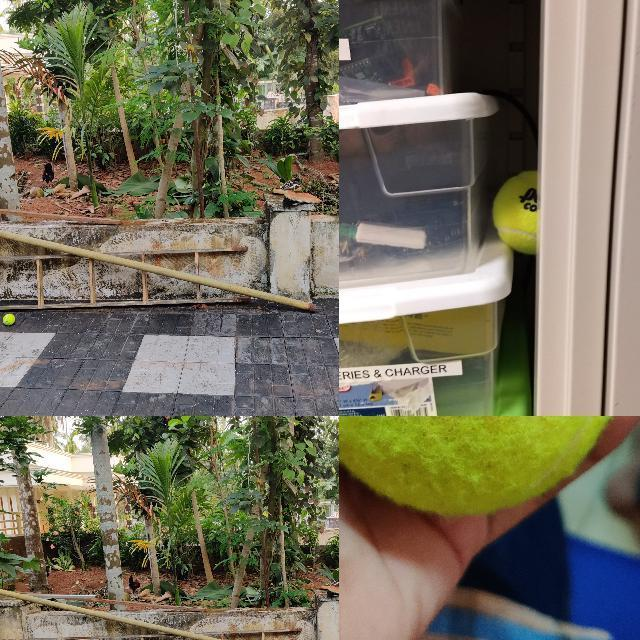tennis-ball: (339, 416, 617, 514), (492, 170, 535, 256), (3, 313, 15, 325)
